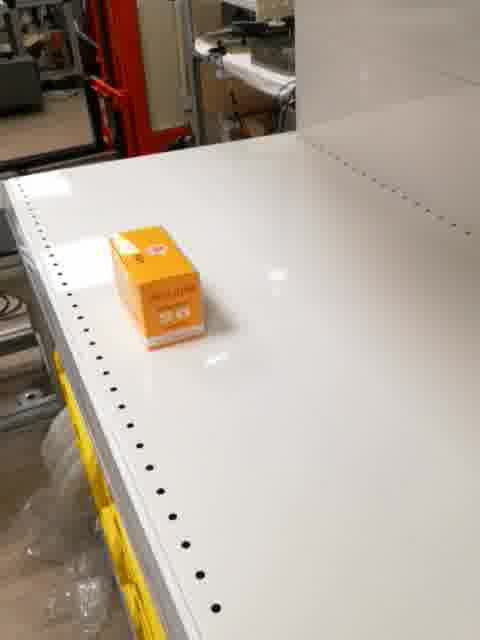jasminetea: (107, 222, 207, 355)
